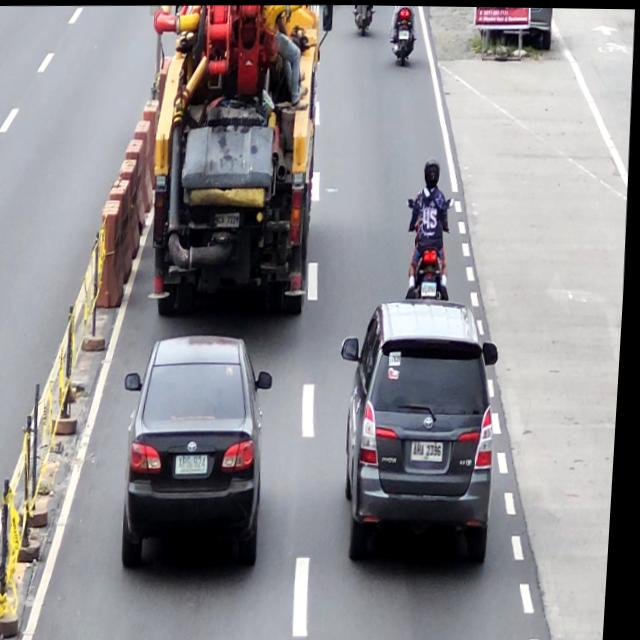Car: (335, 293, 510, 563), (119, 330, 281, 571)
License-Plate: (416, 438, 449, 461), (180, 453, 214, 475), (212, 211, 243, 228), (424, 280, 440, 296), (397, 28, 410, 38)
Motorcycle: (406, 189, 457, 303), (389, 5, 416, 63)
Truck: (142, 2, 338, 311)
